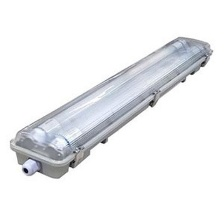light_bulb: (49, 42, 207, 153), (26, 37, 188, 141)
